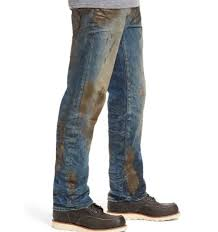earth: (81, 84, 104, 113), (55, 123, 65, 167), (95, 8, 115, 25), (128, 149, 136, 189), (68, 173, 77, 190), (131, 7, 137, 20)
